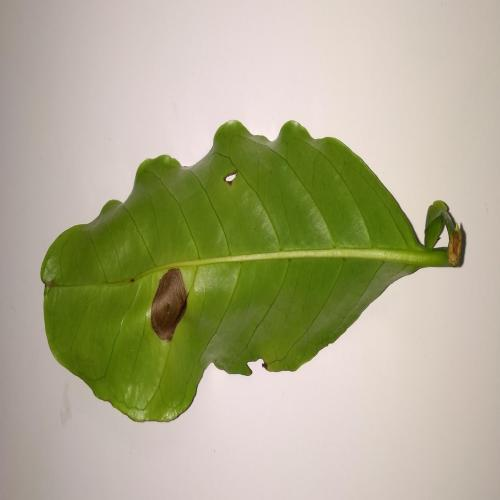leaf: (32, 110, 492, 429)
phoma: (144, 259, 197, 349), (221, 171, 244, 192)
